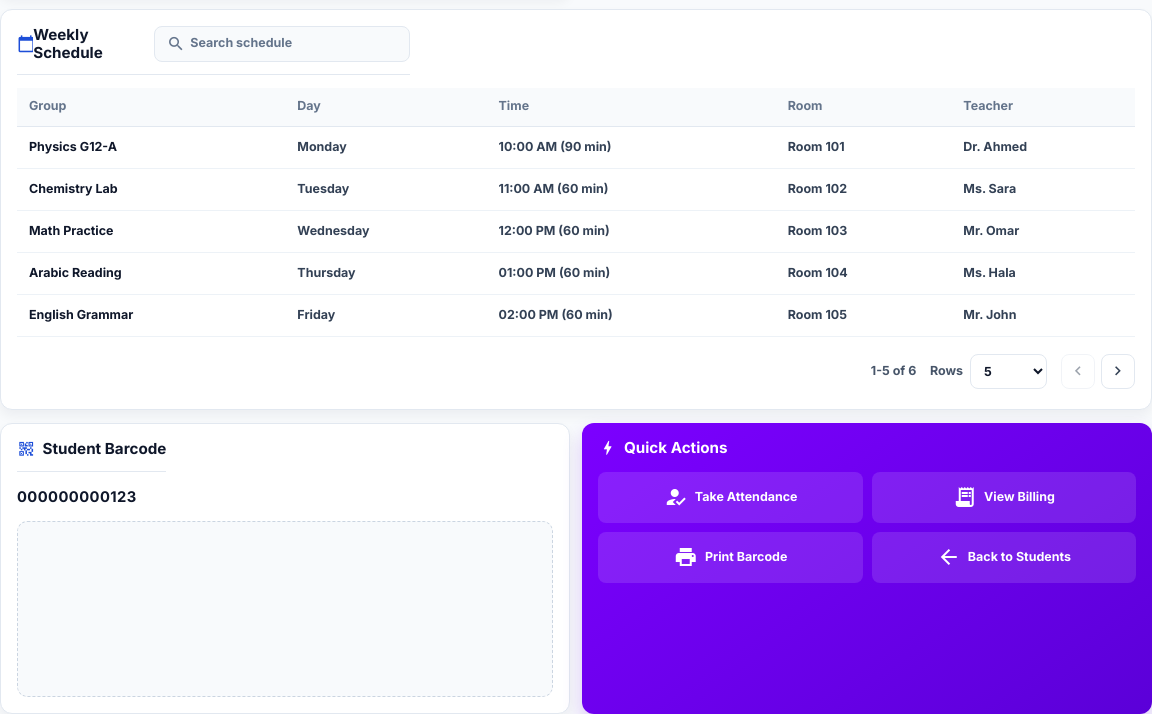
TenantStudentDetailsComponent › paginates weekly schedule rows
(page scrolled)
expect the text "Biology Revision" is not shown: met
Click the button named "Next schedule page" at [1118, 372], box [1101,354,1135,389]
(page scrolled)
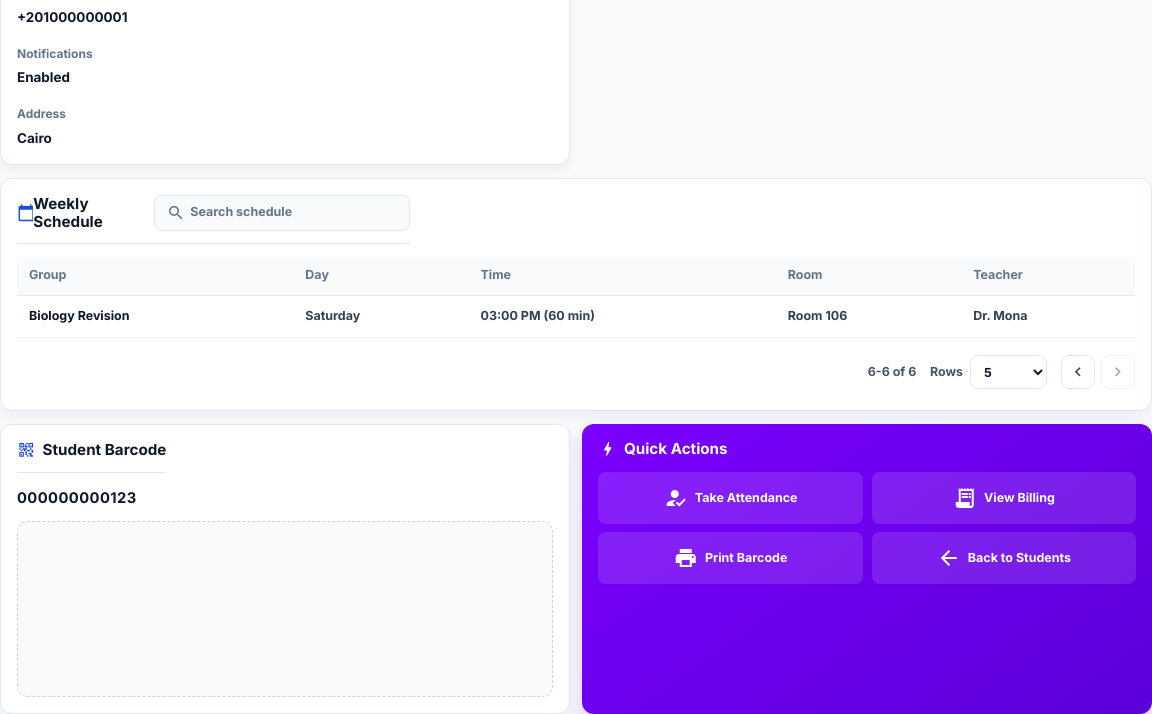
expect the text "6-6 of 6" is shown: met, box [868,363,916,382]
expect the table with class "student-schedule-table" shows "Biology Revision": met, box [29,308,130,323]
expect the element with class "student-schedule-table" no longer shows "Physics G12-A": met
